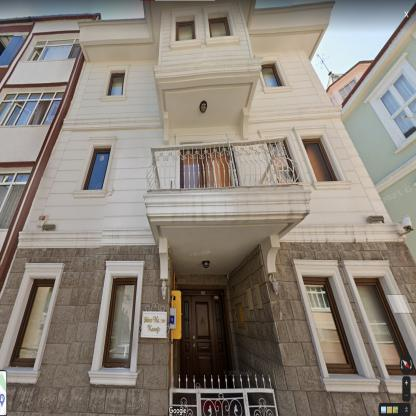door: (177, 284, 236, 374)
window: (302, 275, 366, 379), (353, 276, 415, 381), (8, 277, 57, 367), (100, 276, 138, 372), (376, 68, 415, 140), (2, 167, 32, 252), (180, 146, 239, 189), (300, 131, 345, 184), (1, 92, 64, 125), (82, 146, 111, 190), (28, 38, 79, 60), (2, 36, 26, 66), (262, 61, 284, 87), (208, 16, 231, 38), (175, 19, 196, 41), (107, 72, 125, 96), (338, 77, 356, 100)
